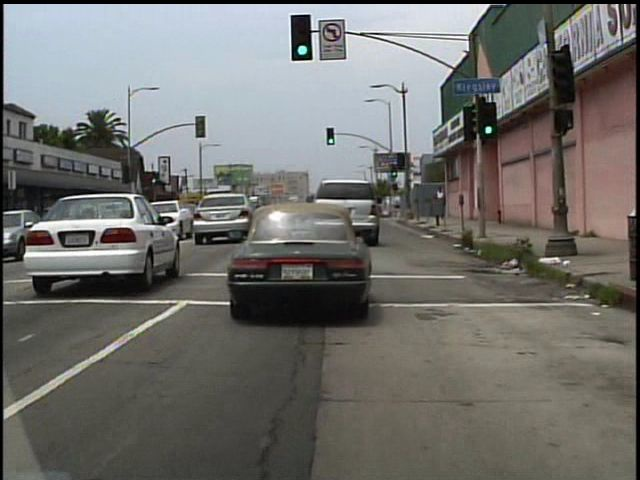person: (433, 184, 447, 217)
